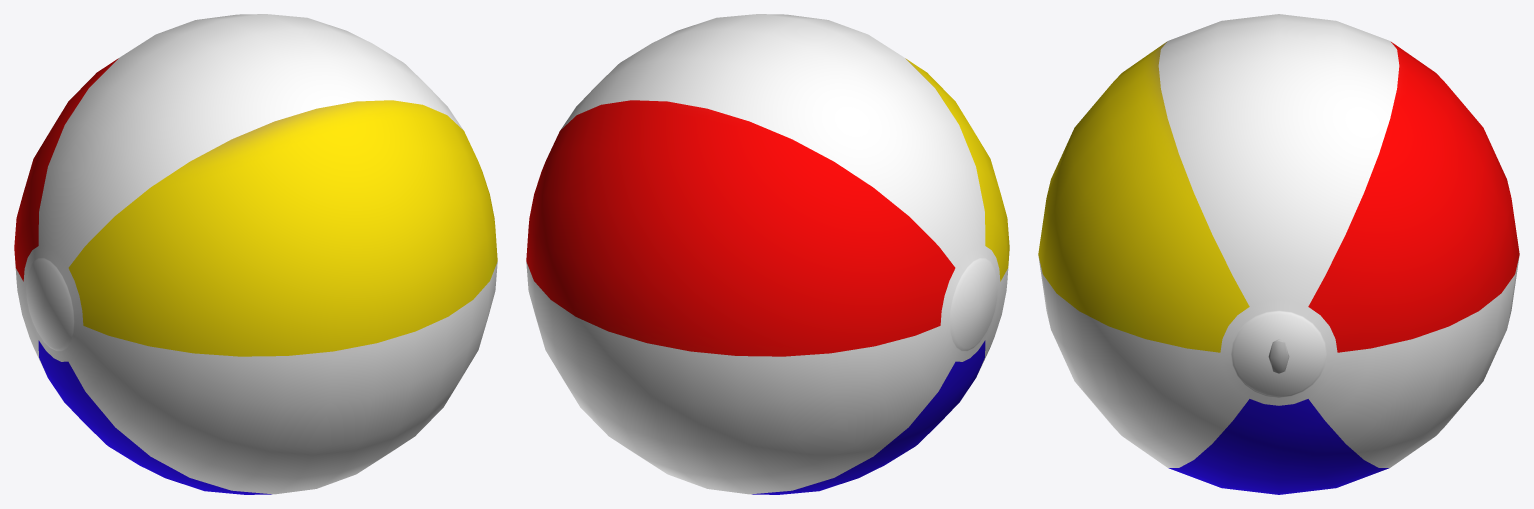
File: Beachball.fbx
3 views of the same model, side by side, from view 1: azimuth 30°, elevation 25°; view 2: azimuth 150°, elevation 25°; view 3: azimuth 270°, elevation 25° (orthographic).
Visible parts, largest first — view 1: ball_LOD0; view 2: ball_LOD0; view 3: ball_LOD0.
Part boxes in pixels (bbox=[...]): ball_LOD0: bbox=[14, 14, 497, 494]; ball_LOD0: bbox=[526, 14, 1009, 494]; ball_LOD0: bbox=[1038, 14, 1519, 494].
Bounding box in the file's own units: 54.1 × 53.26 × 53.26.
